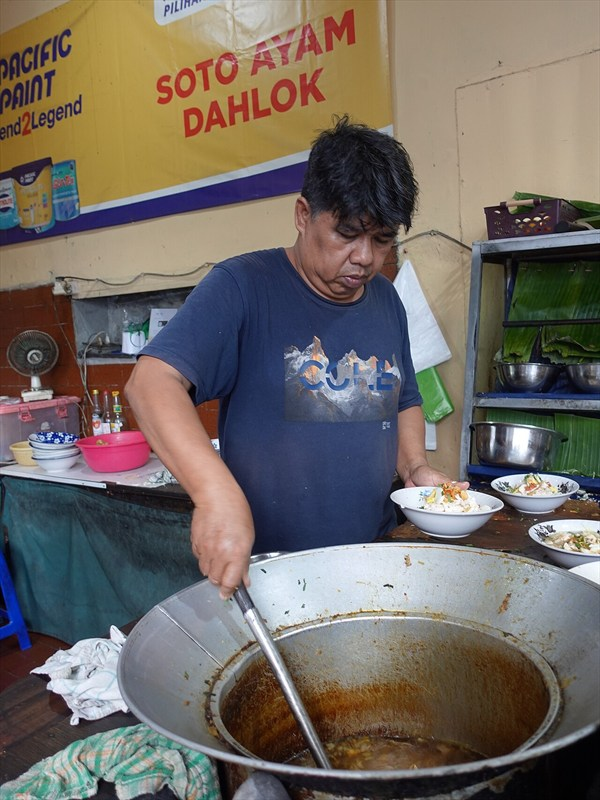Soto Ayam: (43, 65, 584, 781)
